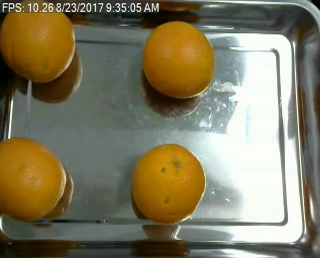Orange: (131, 142, 206, 222), (142, 20, 215, 99), (1, 137, 66, 219), (1, 12, 76, 82)
